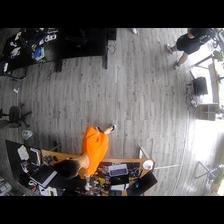normal: (166, 27, 220, 69)
